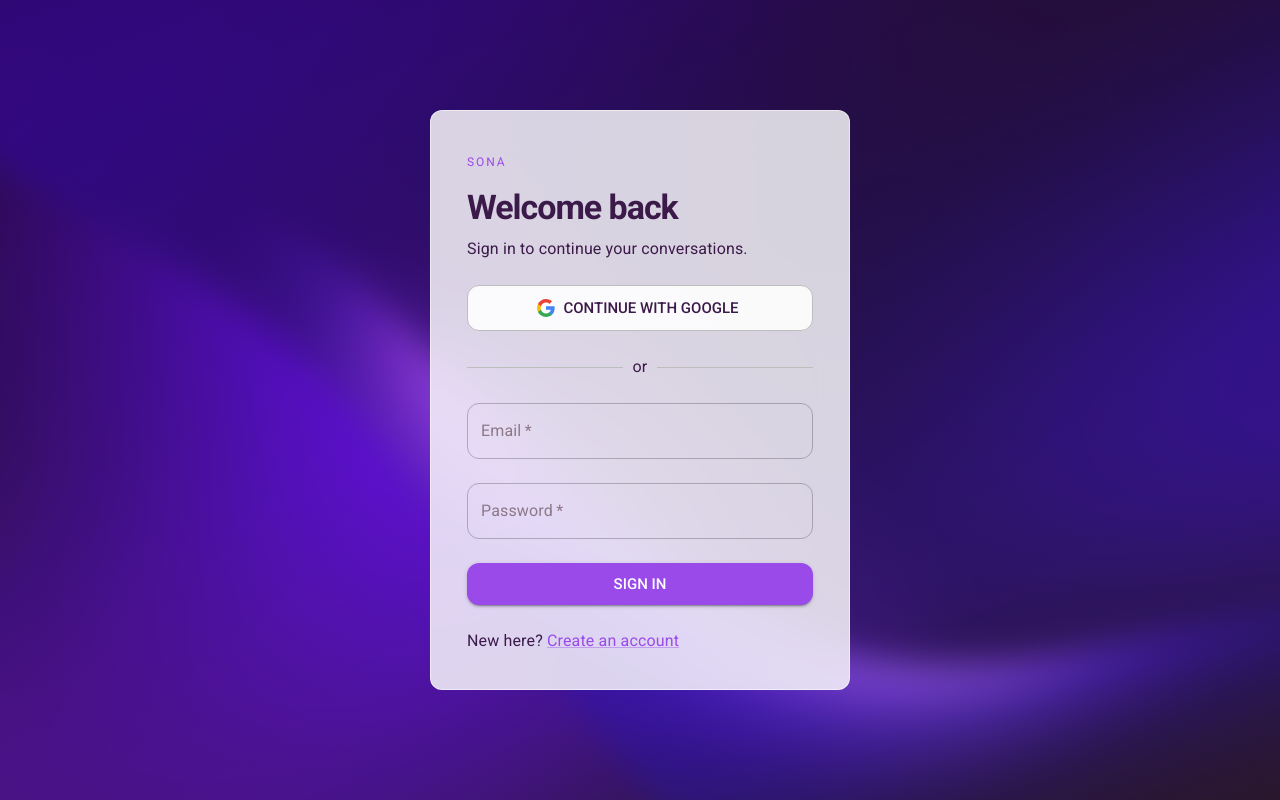
Test: shows the login screen, then the empty chat after signing in
Expected: the heading "Welcome back" is shown, left=467, top=186, right=678, bottom=226
Expected: the button "Continue with Google" is shown, left=467, top=284, right=813, bottom=331
In the field labelled "Email *": (640, 431) left=467, top=403, right=813, bottom=459, type "ada@example.com"
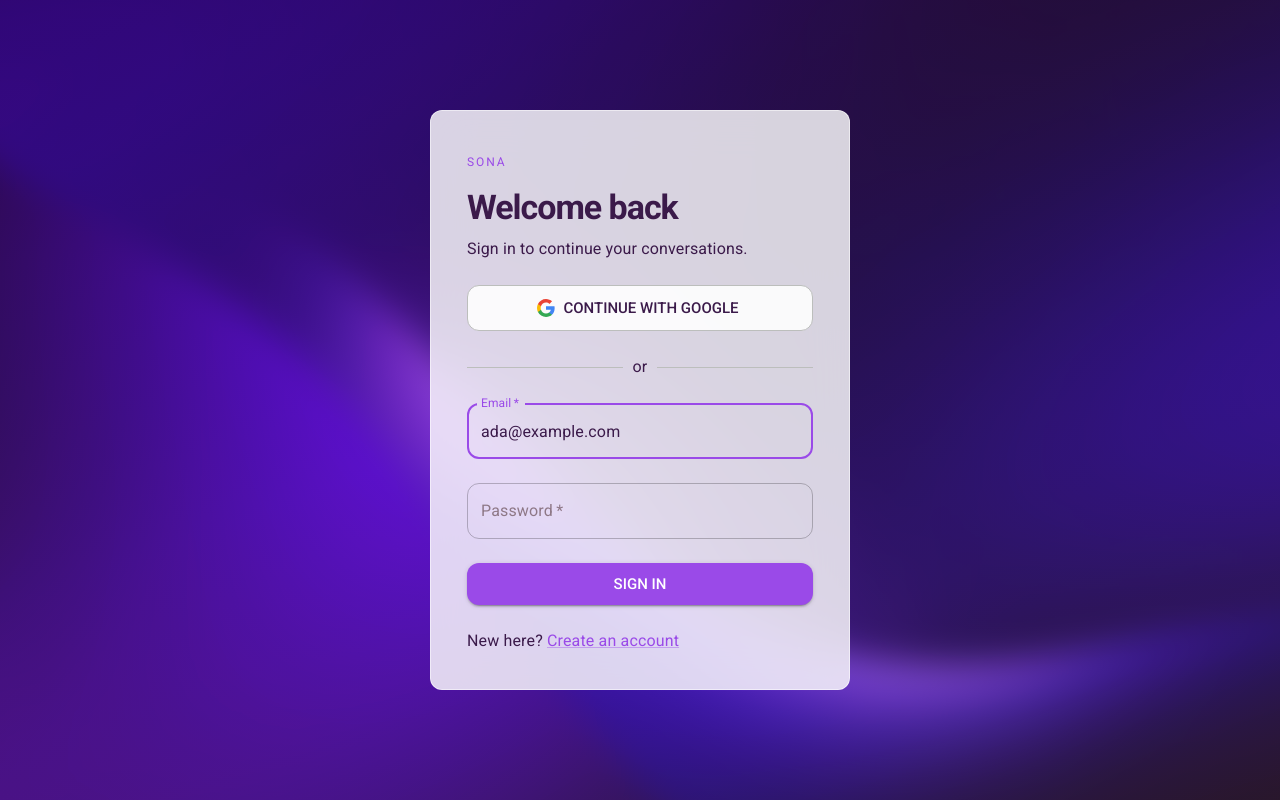
In the password field labelled "Password *": (640, 511) left=467, top=483, right=813, bottom=539, type "password123"
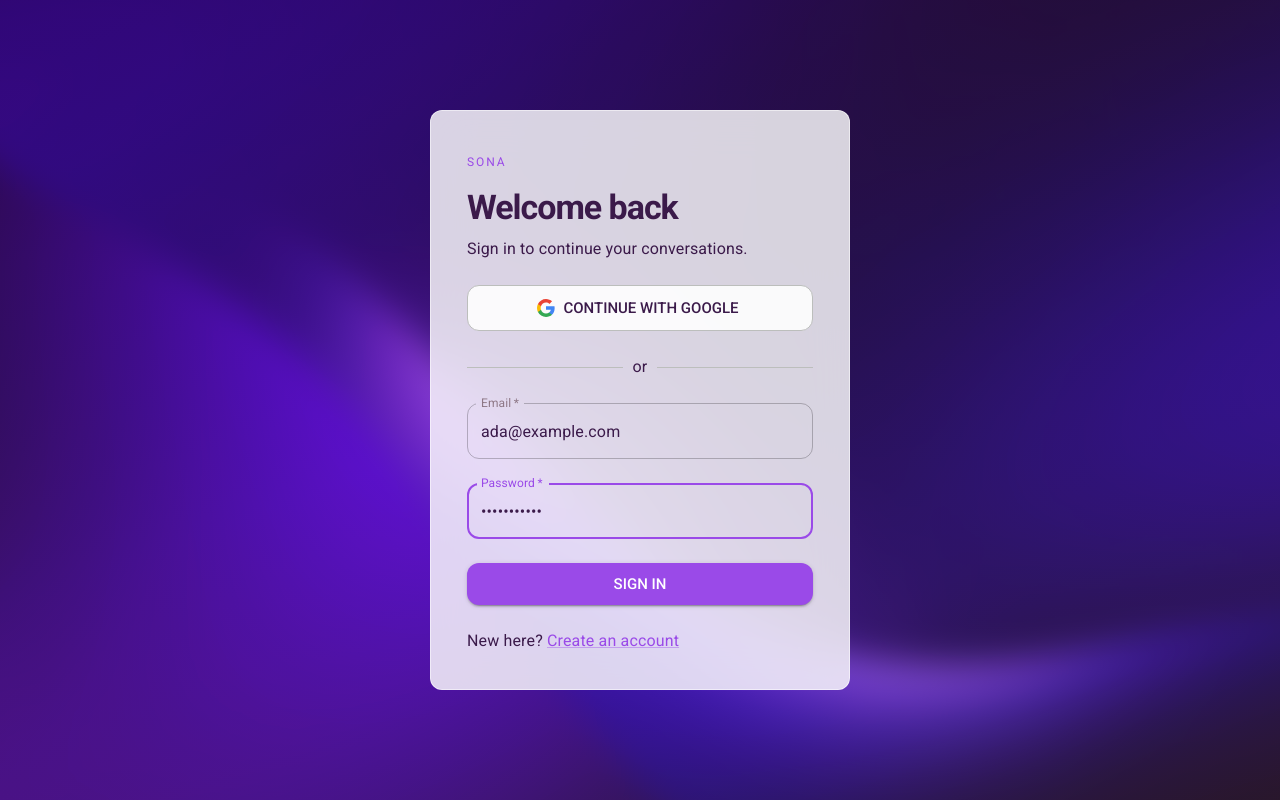
Click the button "Sign in": click(640, 584) left=467, top=563, right=813, bottom=605
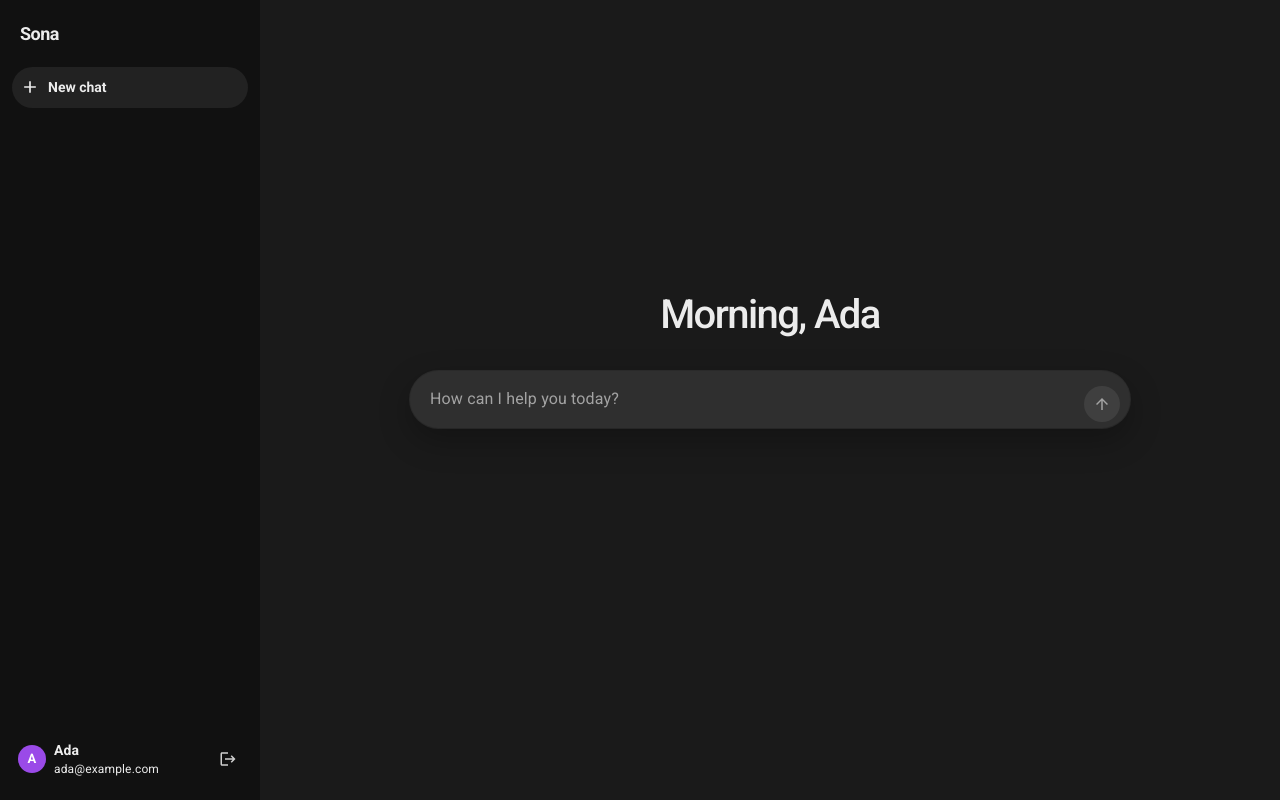
Now the heading "Morning, Ada" is shown, box left=660, top=291, right=880, bottom=338
Now the button "New chat" is shown, box left=12, top=67, right=248, bottom=108
Now the text "Ada" is shown, box left=54, top=742, right=79, bottom=758
